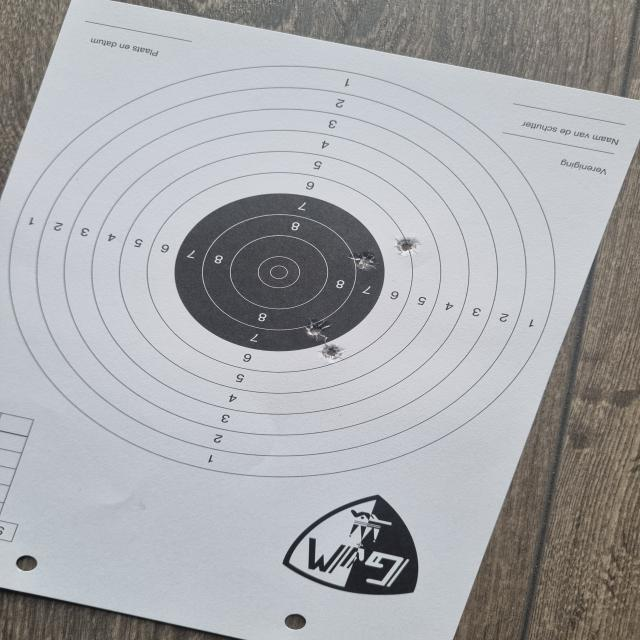6: (395, 236, 423, 256), (320, 342, 344, 362)
8: (348, 249, 378, 269), (305, 318, 330, 341)
Target: (10, 69, 556, 477)
black_contour: (173, 192, 389, 351)
